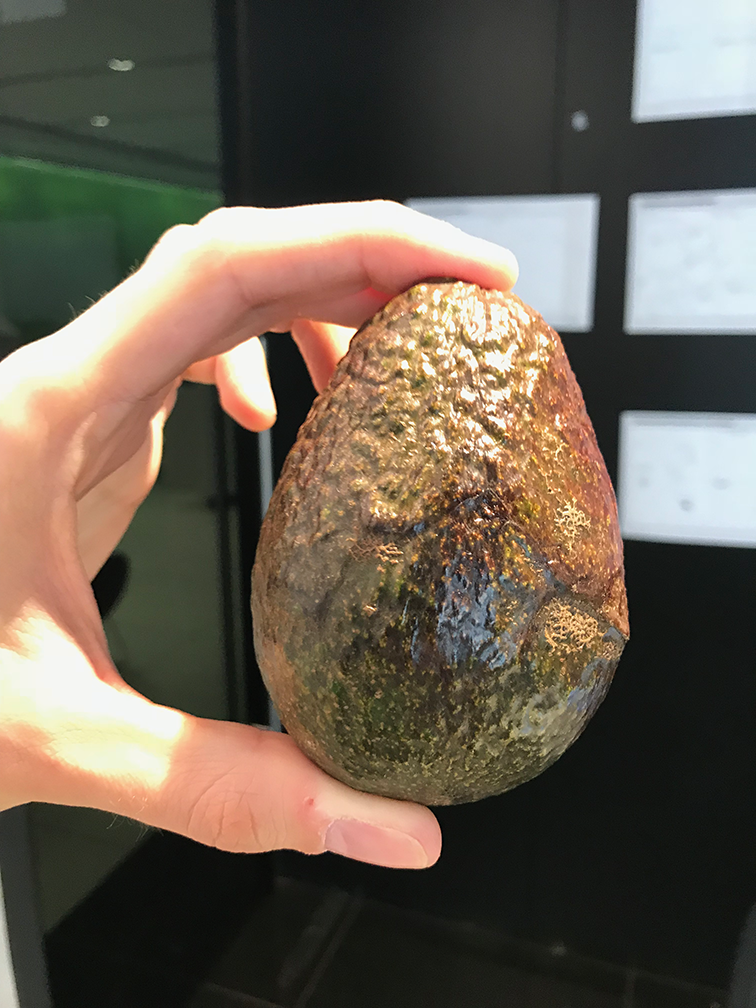avocado: (257, 278, 635, 807)
